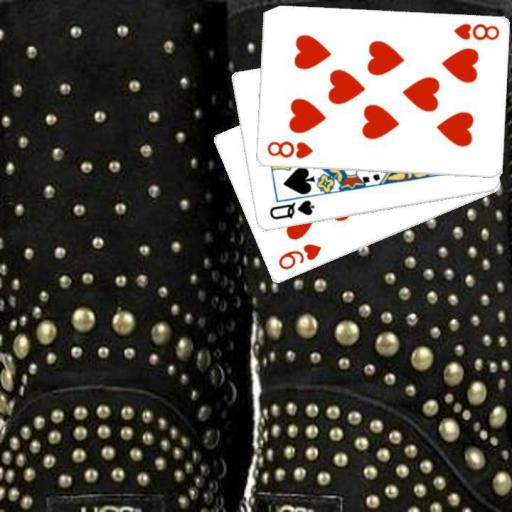card-corner: (274, 240, 323, 272), (266, 197, 316, 222), (450, 20, 501, 42), (264, 138, 314, 160)
